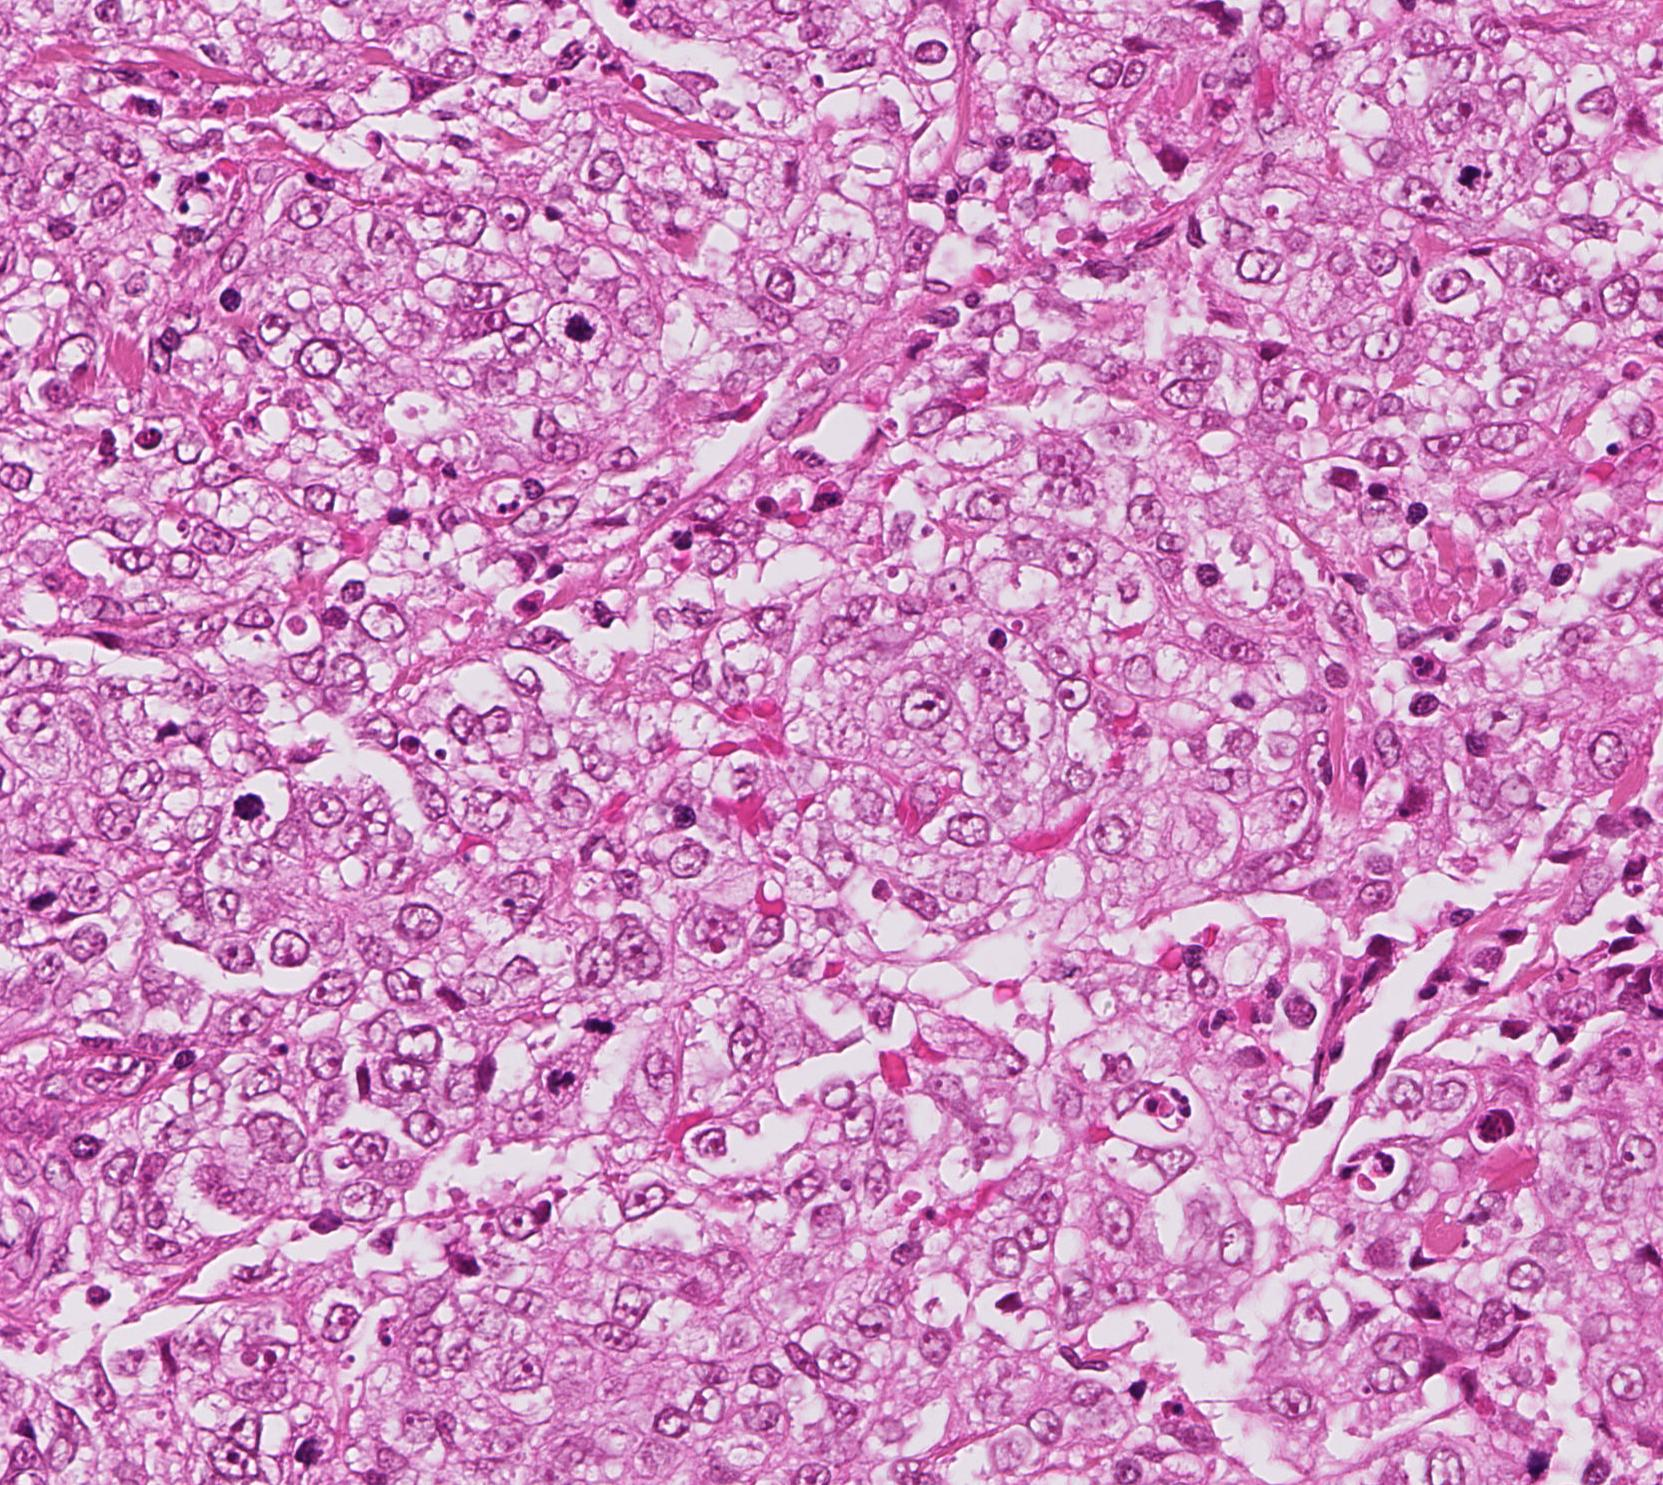mitosis: (219, 770, 280, 830), (543, 300, 604, 358), (528, 1048, 586, 1108)
